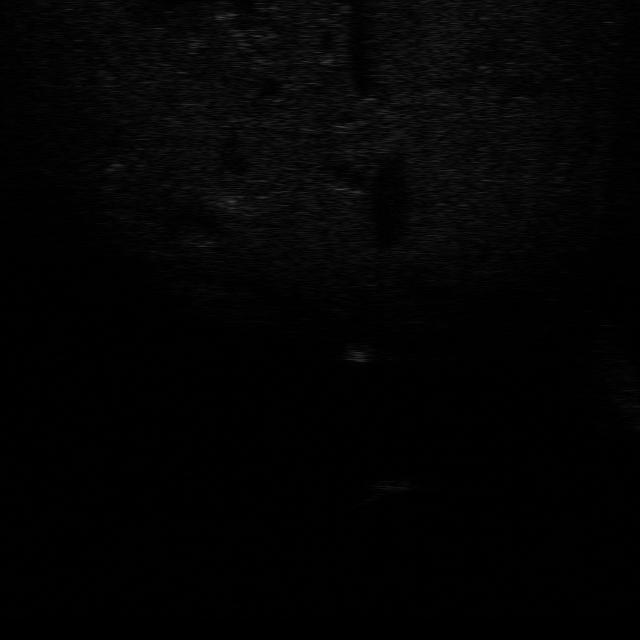cube: (371, 476, 415, 493)
square cage: (338, 340, 378, 366)
